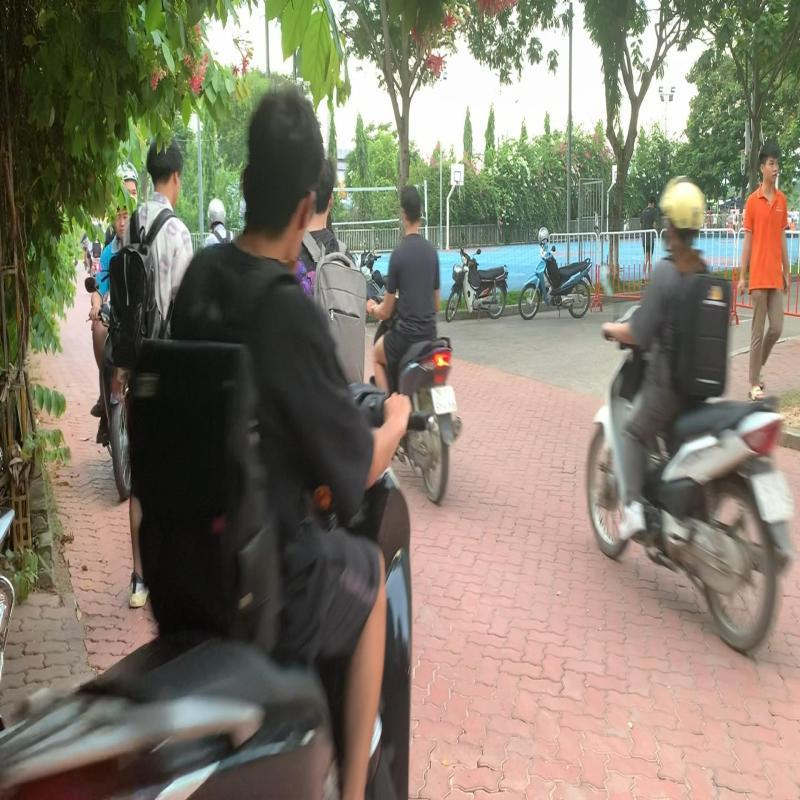nohelmet: (233, 78, 330, 261), (397, 177, 426, 228)
